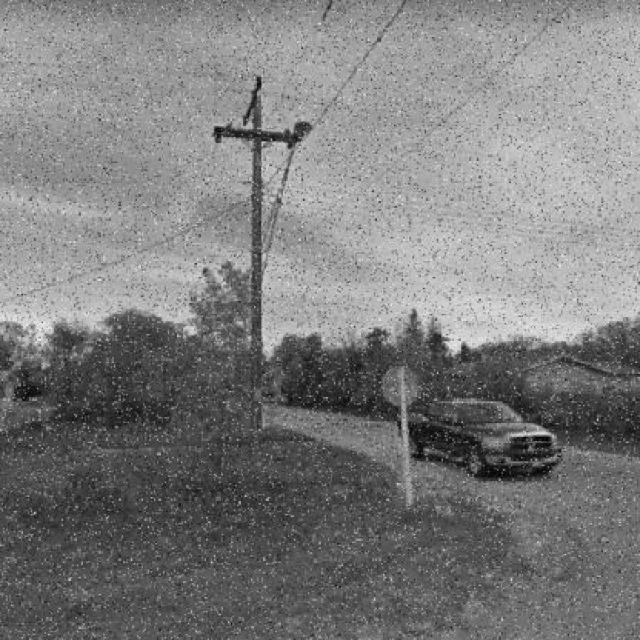crossarm: (214, 122, 314, 149)
pole: (242, 78, 263, 454)
wire: (301, 0, 414, 138)
